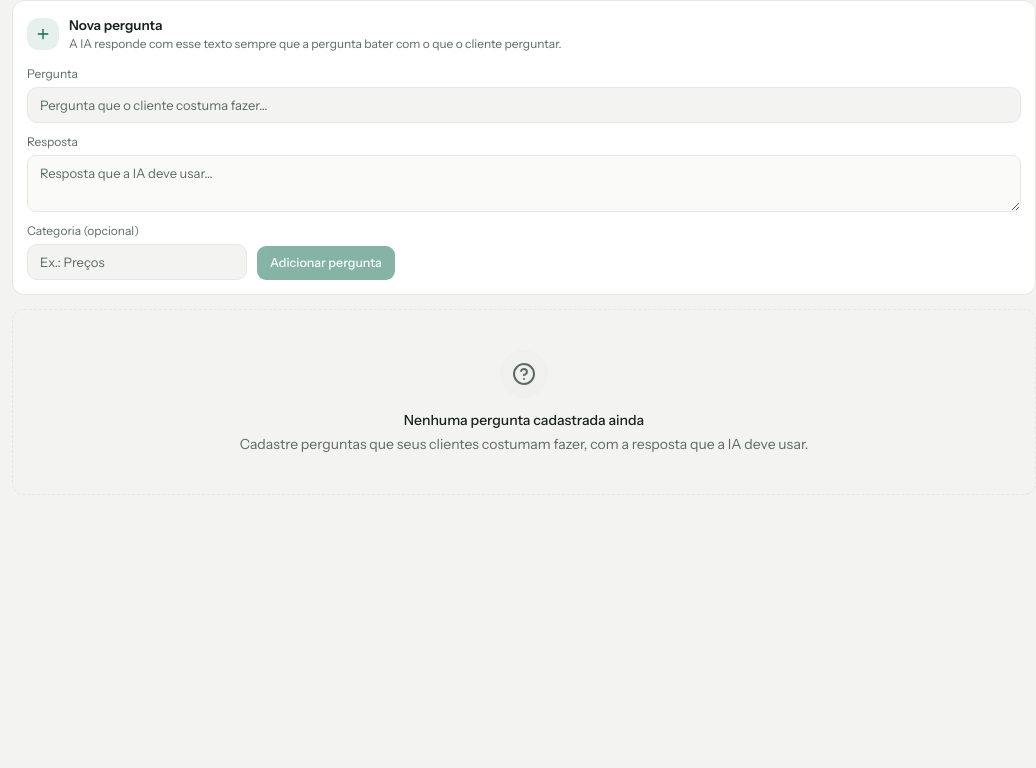
Test: AiFaqPanel (Cérebro da IA v3, Fase 2) › mostra mensagem de erro amigável em caso de 403 ao criar
Type "P?" into the field labelled "Pergunta" at (524, 105), box [27, 87, 1021, 123]
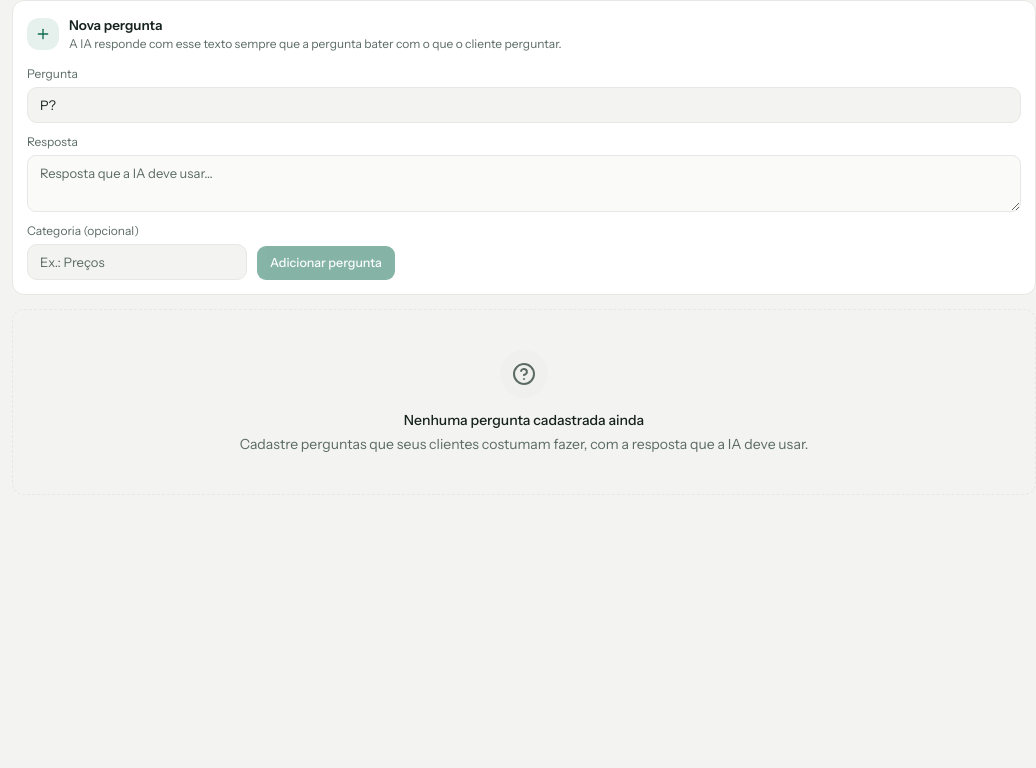
Type "R." into the text box labelled "Resposta" at (524, 184), box [27, 155, 1021, 212]
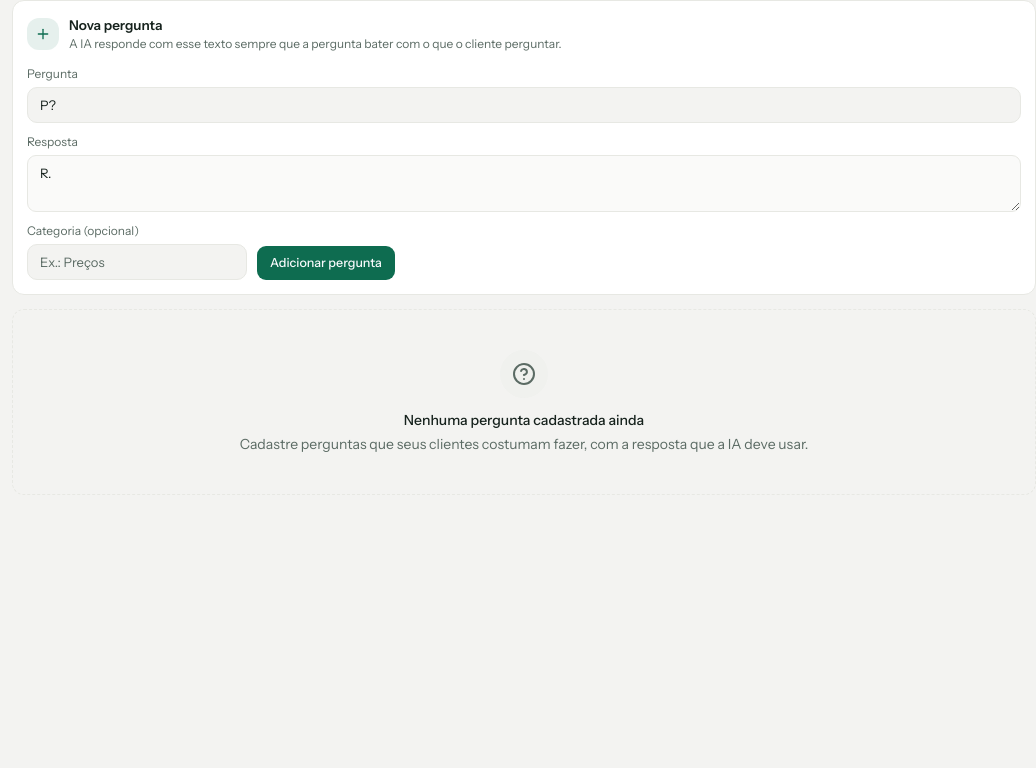
Click the button "Adicionar pergunta" at (326, 263), box [257, 246, 395, 280]
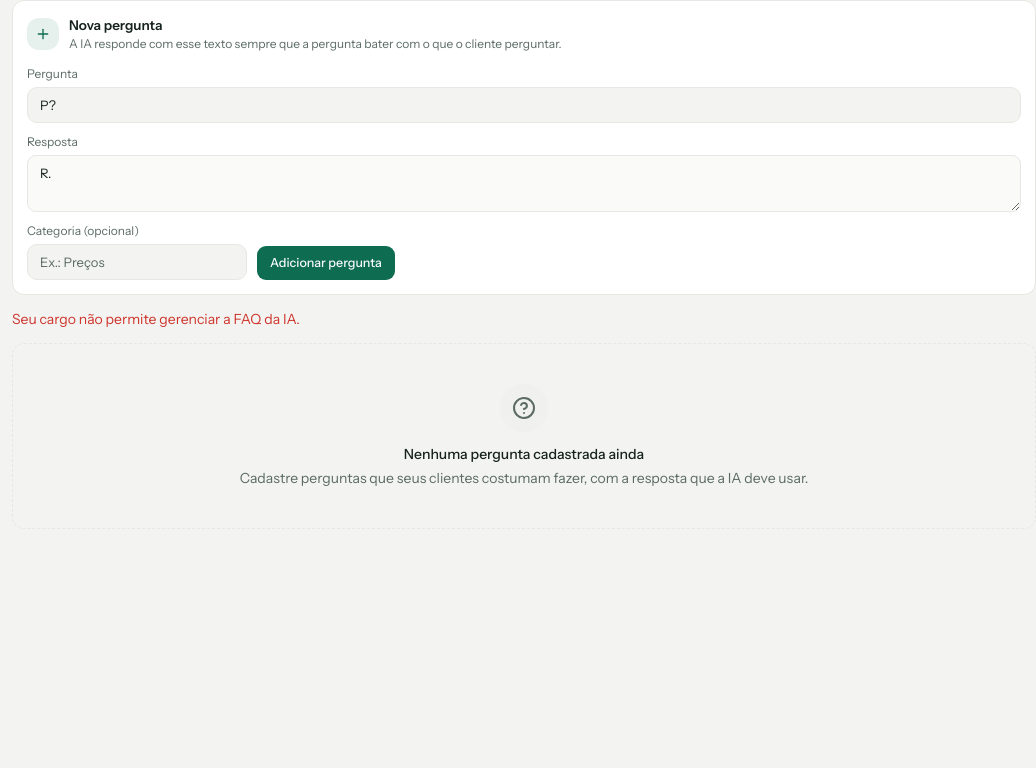
Expected: the text "Seu cargo não permite gerenciar a FAQ da IA." is shown, [12, 310, 300, 328]
